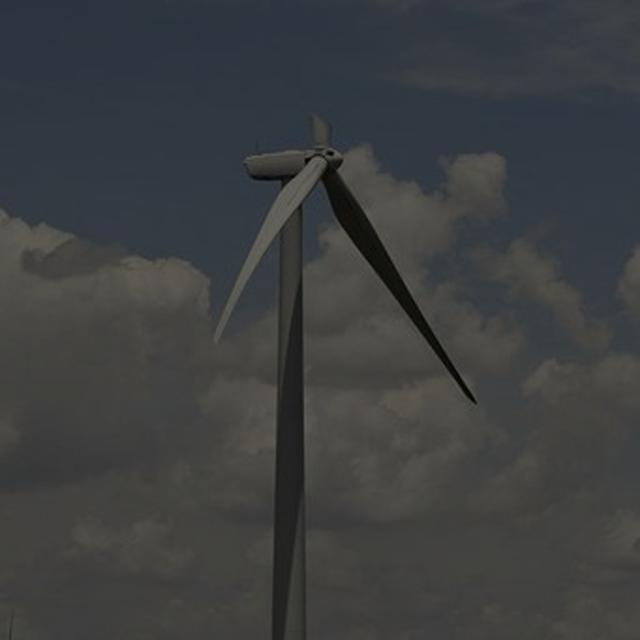crack: (302, 104, 338, 138)
